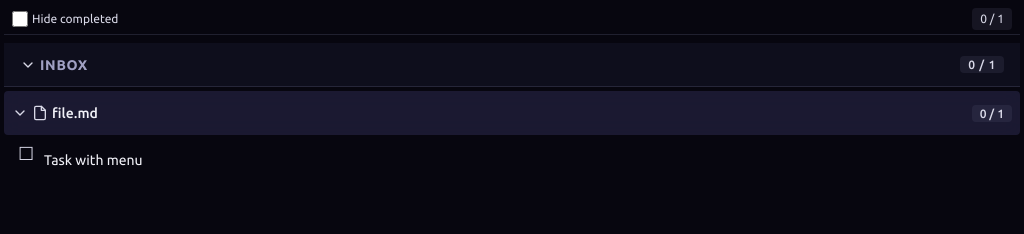
TaskList › context menu › closes context menu on escape key
Right-click the button named "Toggle task: Task with menu" at (26, 153), box [4,131,48,175]
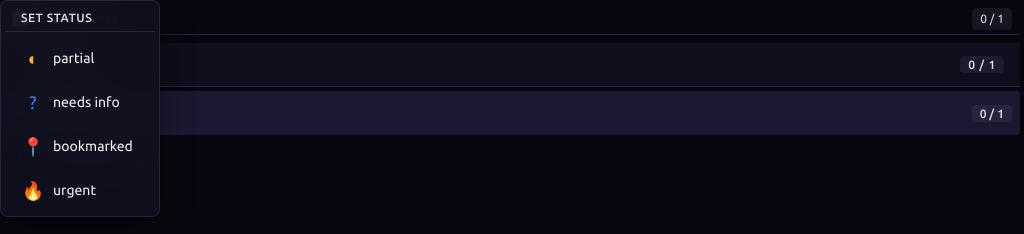
Expected: the menu is shown, [0,0,160,217]
Note: Press escape
Press Escape
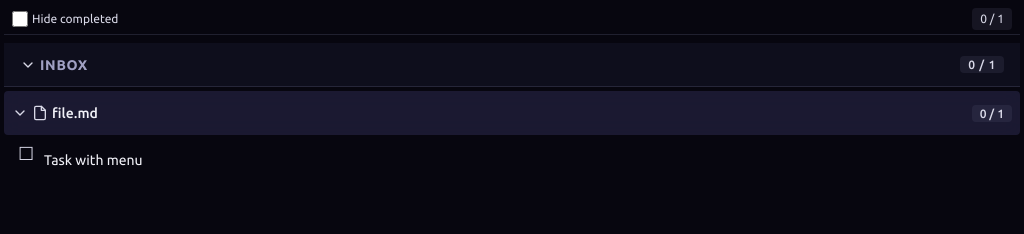
Expected: the menu is gone
